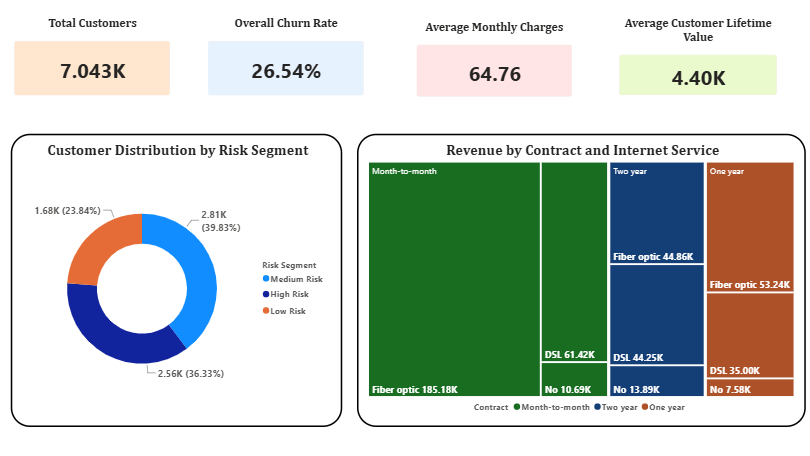

The page's visual inventory and layout, read from the dashboard file:
{"tool":"powerbi","page":{"name":"Executive Summary","canvas":[1280,720],"ordinal":0},"visuals":[{"type":"cardVisual","title":"Total Customers","fields":{"Data":["CountNonNull(Fact_CustomerAccount.CustomerAccountKey)"]},"box":[10.1,26.1,279.7,142],"z":0},{"type":"cardVisual","title":"Overall Churn Rate","fields":{"Data":["Avg(Fact_CustomerAccount.Churn_Value)"]},"box":[313,26.1,279.7,142],"z":1000},{"type":"cardVisual","title":"Average Monthly Charges","fields":{"Data":["Avg(Fact_CustomerAccount.Monthly_Charges)"]},"box":[640.6,30.4,278.3,137.7],"z":2000},{"type":"cardVisual","title":"Average Customer Lifetime Value","fields":{"Data":["Avg(Fact_CustomerAccount.CLTV)"]},"box":[959.4,26.1,282.6,142],"z":3000},{"type":"donutChart","title":"Customer Distribution by Risk Segment","fields":{"Category":["Fact_CustomerAccount.Risk_Segment"],"Y":["CountNonNull(Fact_CustomerAccount.CustomerAccountKey)"]},"box":[22,210,520,460],"z":4000},{"type":"treemap","title":"Revenue by Contract and Internet Service","fields":{"Group":["Dim_Contract.Contract"],"Values":["Sum(Fact_CustomerAccount.Monthly_Charges)"],"Details":["Dim_Service.Internet_Service"]},"box":[564,210,704,460],"z":5000}]}

Visuals, with their boxes in screenshot pixels (x1, y1, x2, y2), scaled from the page's 1280x720 canvas onto the 810x456 screenshot:
"Total Customers" cardVisual: x1=6, y1=17, x2=183, y2=106
"Overall Churn Rate" cardVisual: x1=198, y1=17, x2=375, y2=106
"Average Monthly Charges" cardVisual: x1=405, y1=19, x2=581, y2=106
"Average Customer Lifetime Value" cardVisual: x1=607, y1=17, x2=786, y2=106
"Customer Distribution by Risk Segment" donutChart: x1=14, y1=133, x2=343, y2=424
"Revenue by Contract and Internet Service" treemap: x1=357, y1=133, x2=802, y2=424
